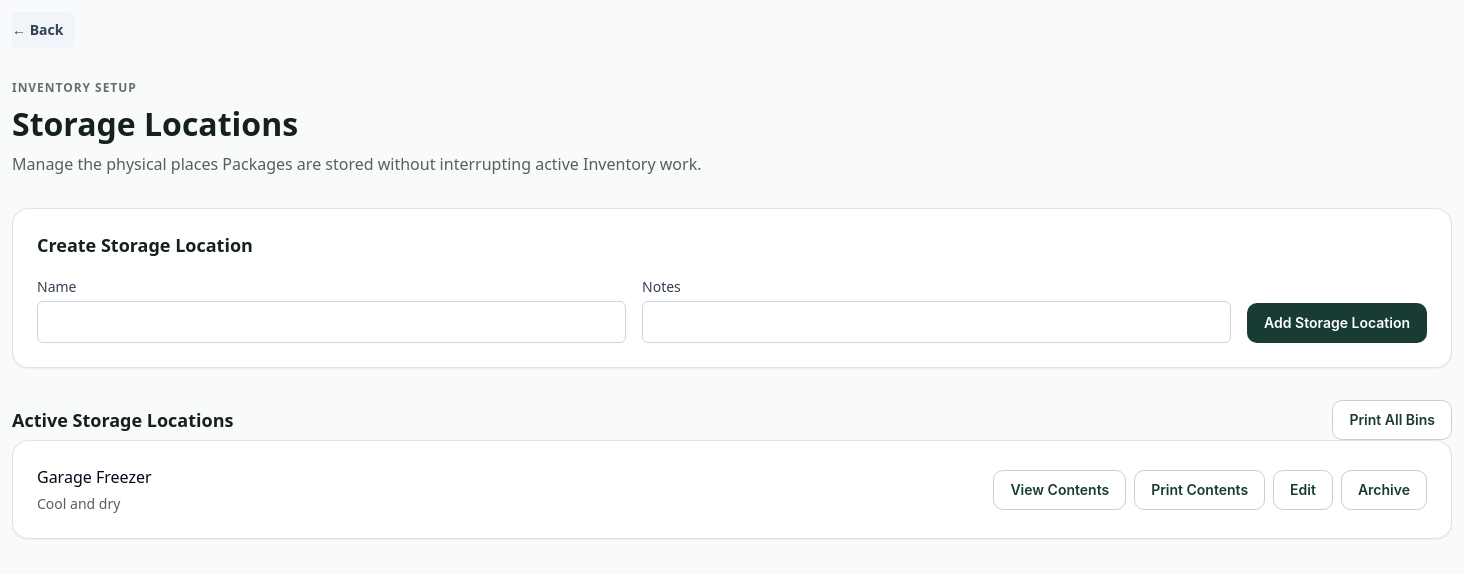
it: StorageLocationsPage › edits a Storage Location's name and notes, and links to its filtered Inventory view
Expected: the heading "Garage Freezer" is shown, top-left (37, 465), bottom-right (152, 489)
Step 1. Click the button "Edit" → click(1303, 490), box top-left (1273, 470), bottom-right (1333, 510)
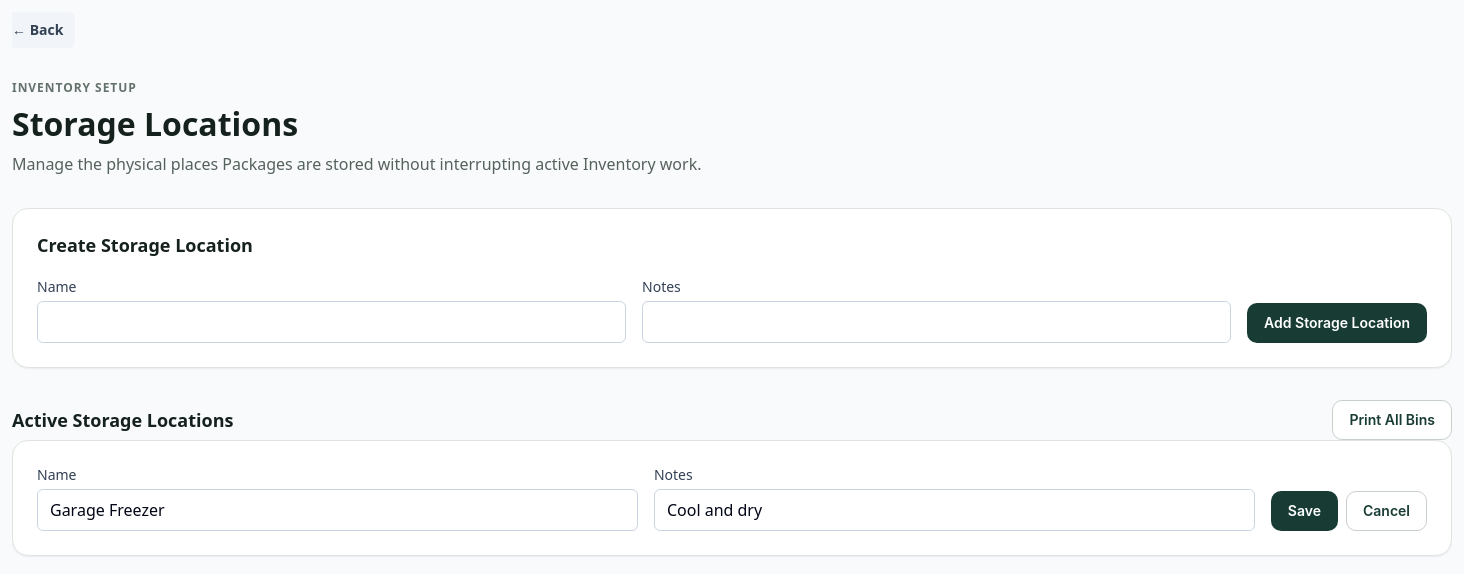
Step 2. Replace the text in the field labelled "Name" below "Active Storage Locations" with "Chest Freezer" → (337, 510), box top-left (37, 489), bottom-right (638, 531)
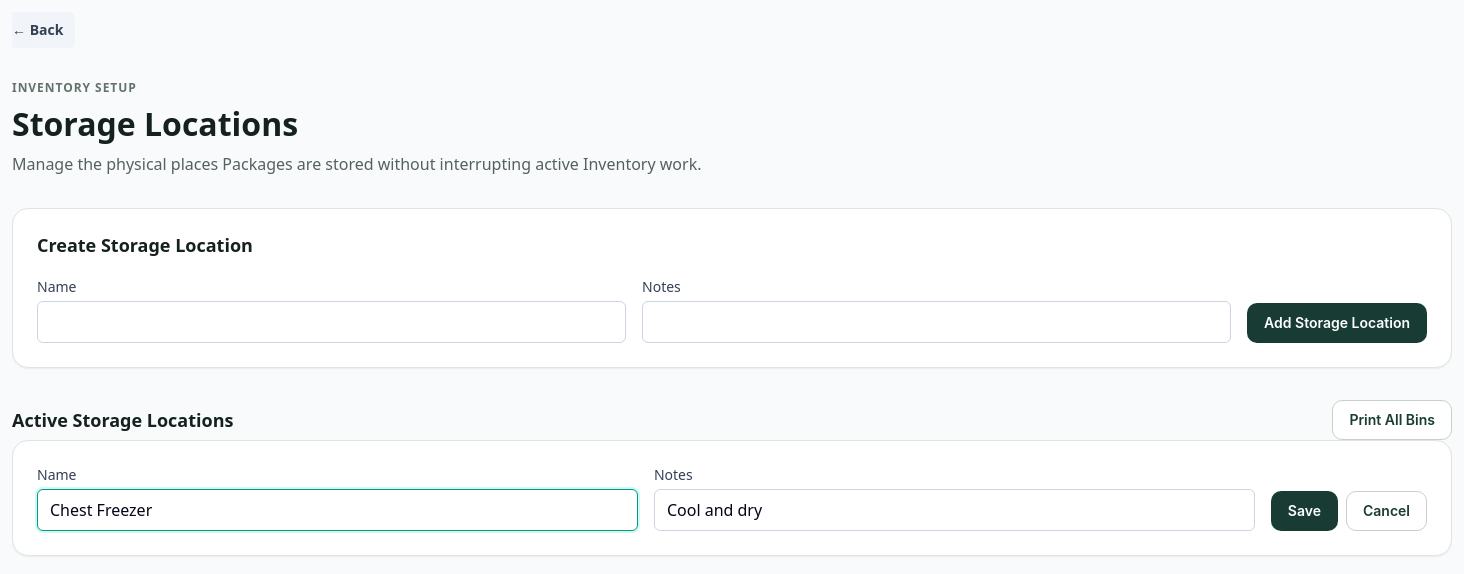
Step 3. Replace the text in the 2nd field labelled "Notes" with "Moved to the garage corner" → (954, 510), box top-left (654, 489), bottom-right (1255, 531)
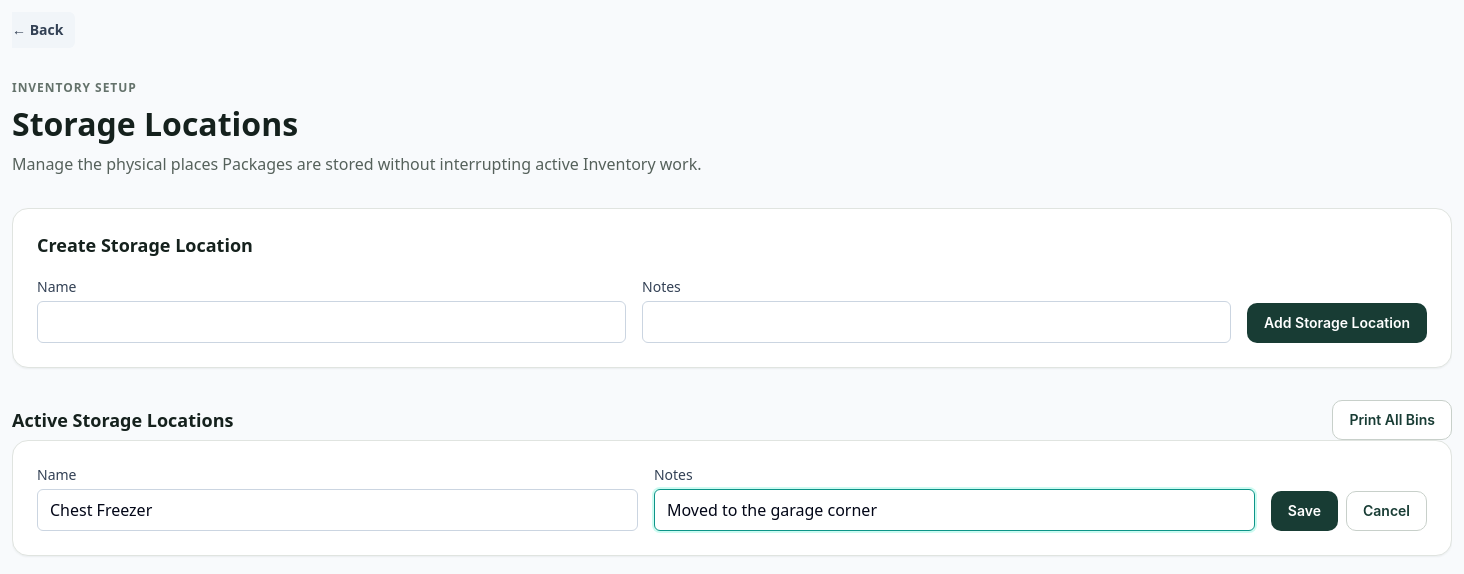
Step 4. Click the button "Save" → click(1304, 511), box top-left (1271, 491), bottom-right (1338, 531)
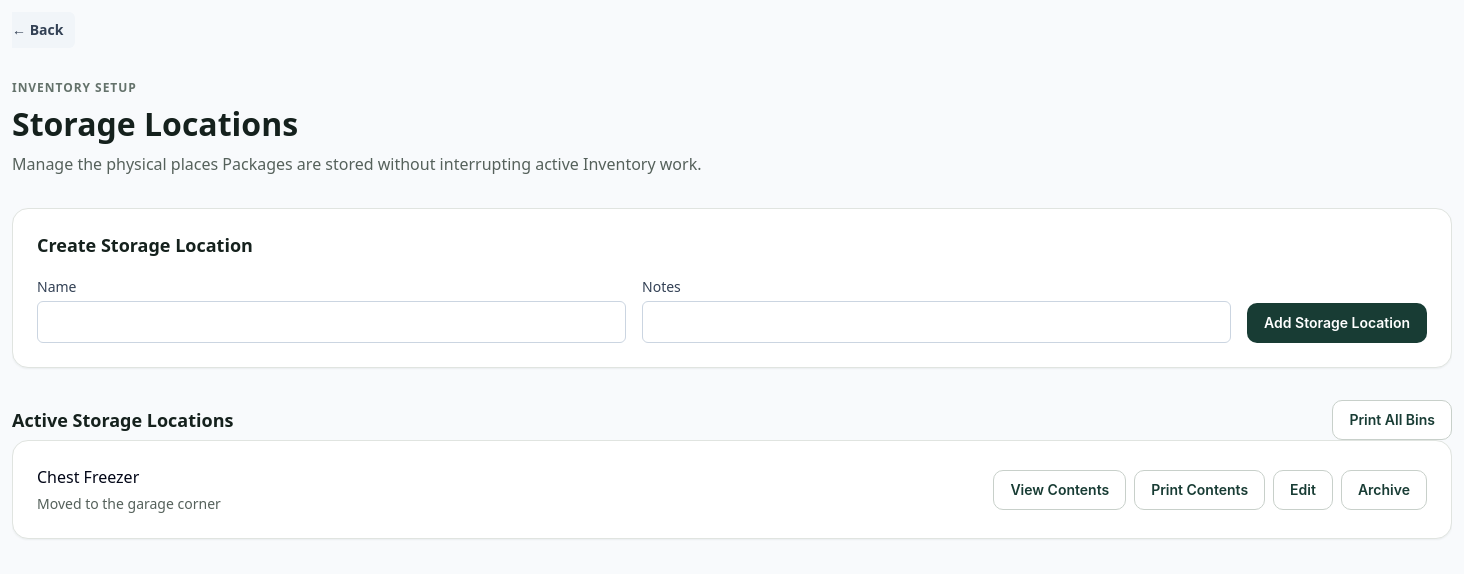
Expected: the heading "Chest Freezer" is shown, top-left (37, 466), bottom-right (139, 488)
Expected: the text "Moved to the garage corner" is shown, top-left (37, 493), bottom-right (221, 514)
